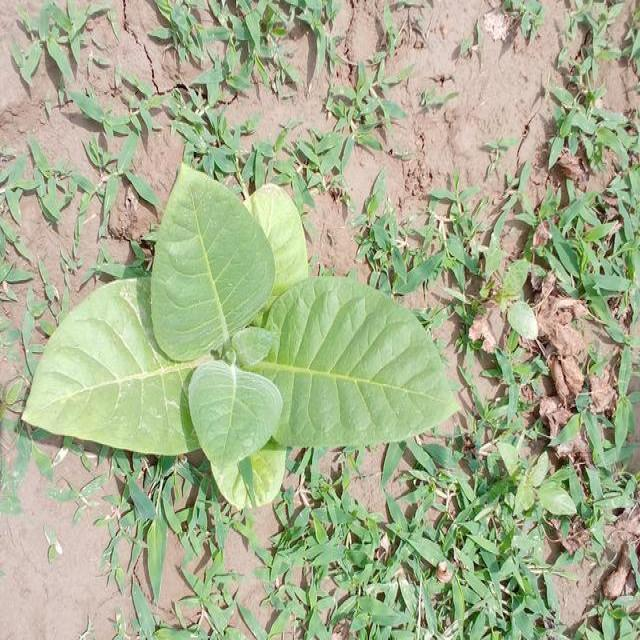crop: (48, 184, 443, 497)
